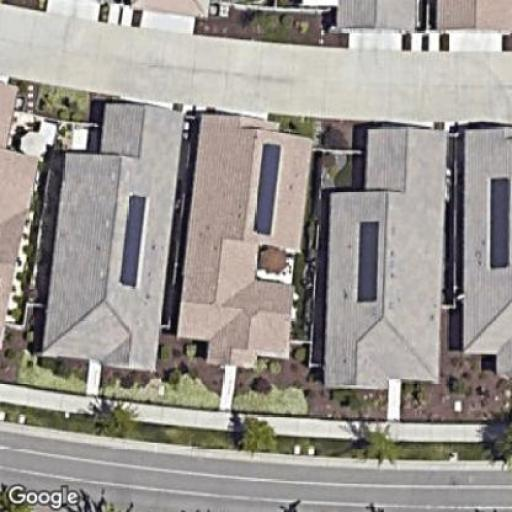solar-panel: (115, 189, 150, 291), (250, 136, 283, 238), (484, 168, 510, 282), (356, 215, 381, 308)
